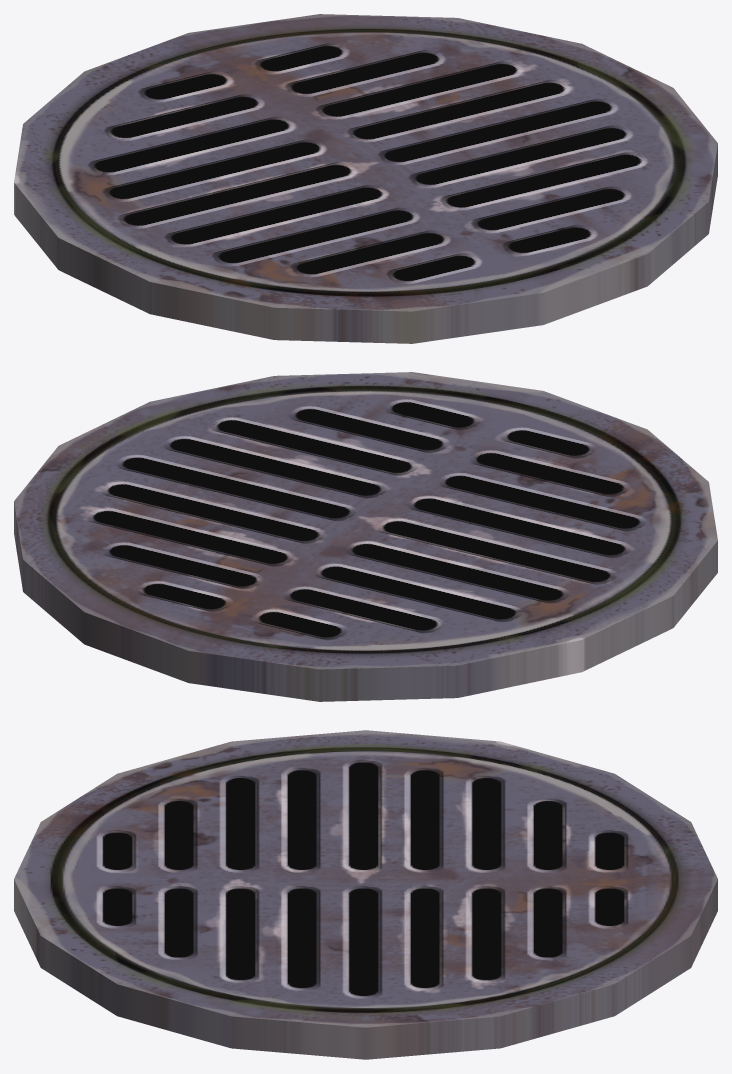
The model's file is manhole04.fbx.
3 views of the same model, one above another, from view 1: azimuth 30°, elevation 25°; view 2: azimuth 150°, elevation 25°; view 3: azimuth 270°, elevation 25° (orthographic).
Parts seen in each view (by area): view 1: manhole04; view 2: manhole04; view 3: manhole04.
Part boxes in pixels (left/top/right/bottom): manhole04: left=14, top=14, right=717, bottom=343; manhole04: left=14, top=372, right=717, bottom=701; manhole04: left=14, top=730, right=717, bottom=1059.
Bounding box in the file's own units: 99.61 × 5 × 99.61.
